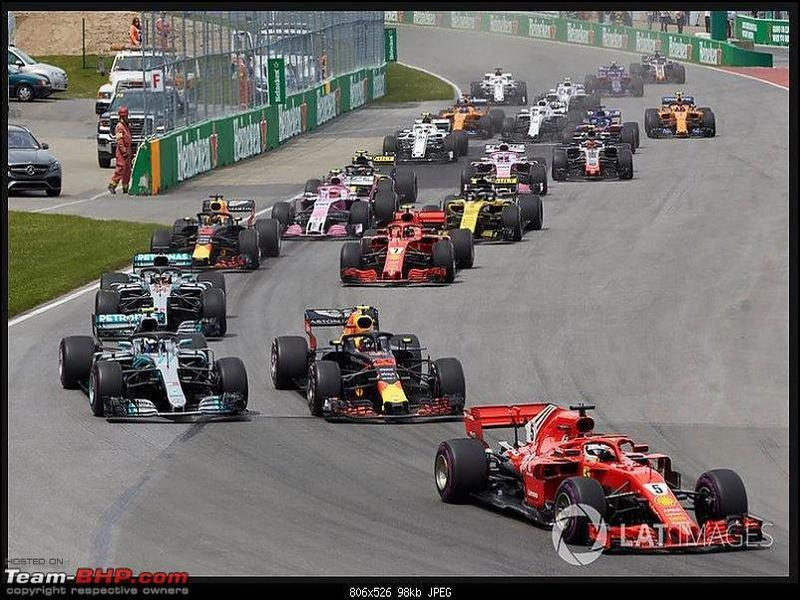f1: (434, 405, 768, 562), (268, 301, 475, 427), (56, 319, 248, 425), (340, 206, 477, 290), (97, 258, 237, 336), (148, 197, 289, 272), (264, 170, 417, 236), (437, 175, 555, 247), (551, 127, 653, 185), (642, 92, 729, 142)
